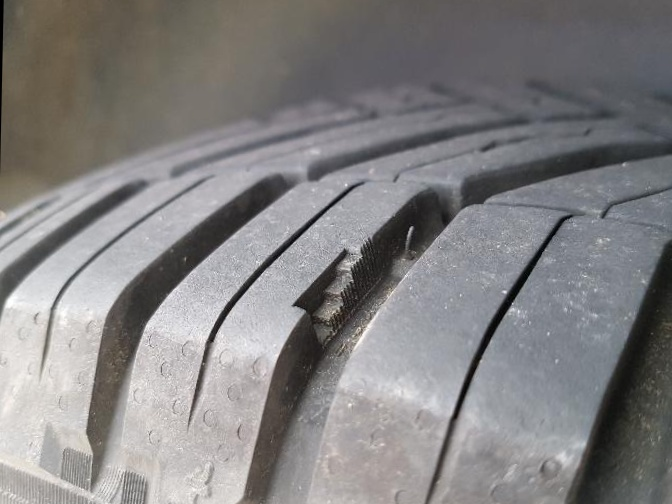temoin:90: (283, 230, 391, 358)
